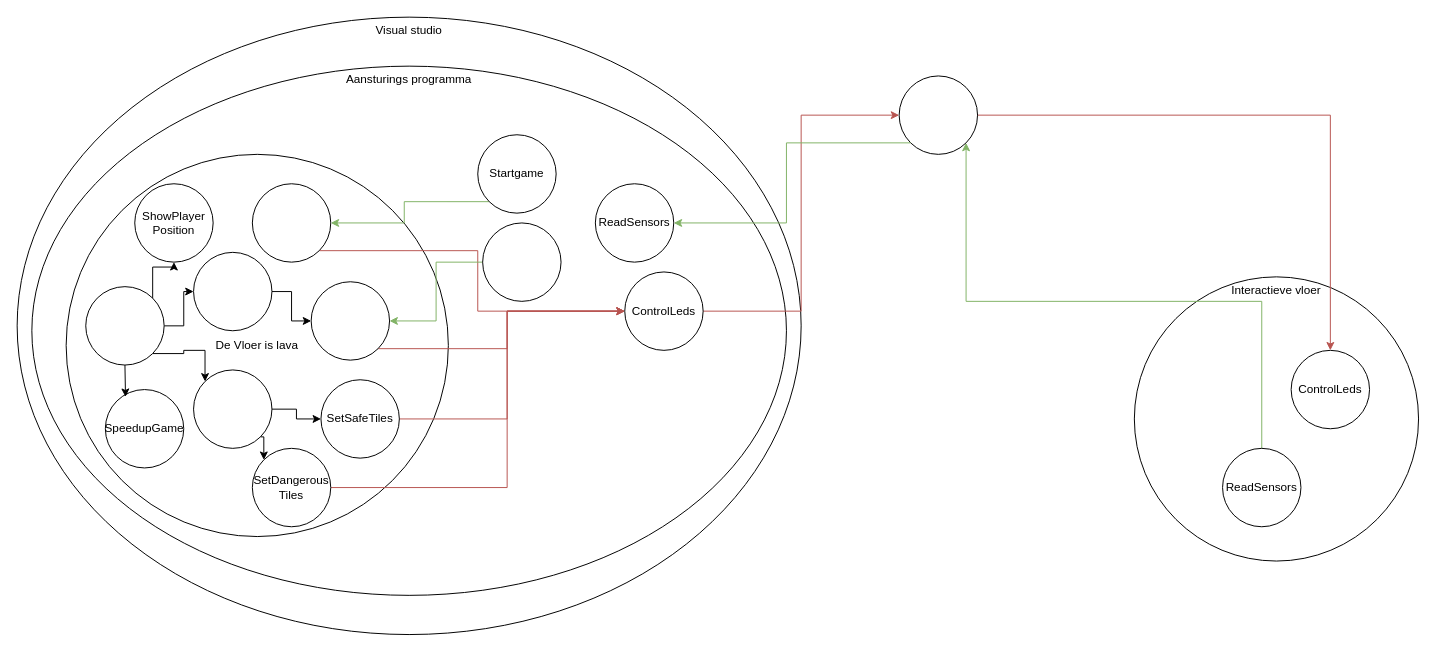
The diagram is 1436 pixels wide and 652 high, and some of its shapes have lost their labels. Each missing label, with the centre of its shape:
CheckEnd Game Condition: [232,291]
EndGame: [521,261]
EndSignaal: [350,320]
SelectRandom SafeTiles: [232,408]
StartSignaal: [291,222]
UpdateGame: [124,325]
USB connectie: [938,114]
